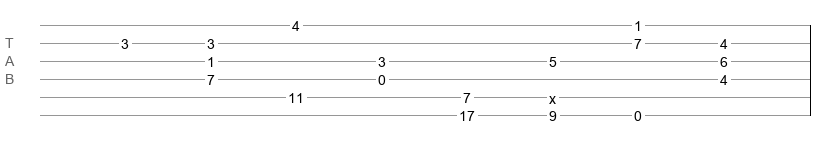0: (378, 72, 386, 82), (634, 108, 642, 118)
1: (207, 54, 215, 64), (634, 18, 642, 28)
11: (288, 90, 304, 100)
17: (459, 108, 475, 118)
3: (121, 36, 129, 46), (207, 36, 215, 46), (378, 54, 386, 64)
4: (292, 18, 300, 28), (720, 36, 728, 46), (720, 72, 728, 82)
5: (549, 54, 557, 64)
6: (720, 54, 728, 64)
7: (207, 72, 215, 82), (463, 90, 471, 100), (634, 36, 642, 46)
9: (549, 108, 557, 118)
x: (549, 91, 556, 99)
